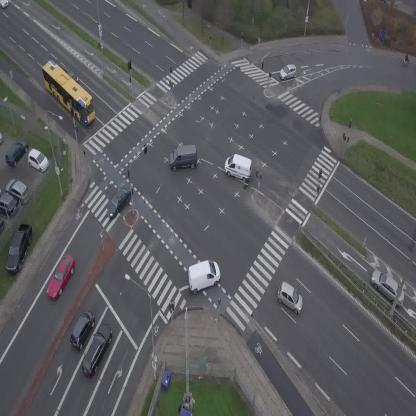bicycle: (399, 52, 414, 68)
bus: (33, 58, 104, 128)
car: (77, 321, 117, 378), (365, 265, 412, 310), (42, 252, 80, 302), (65, 308, 100, 352), (271, 280, 310, 316), (100, 184, 137, 221), (63, 65, 82, 84), (278, 63, 298, 81)
lorry: (182, 256, 225, 295), (221, 151, 257, 184), (168, 144, 199, 171)
